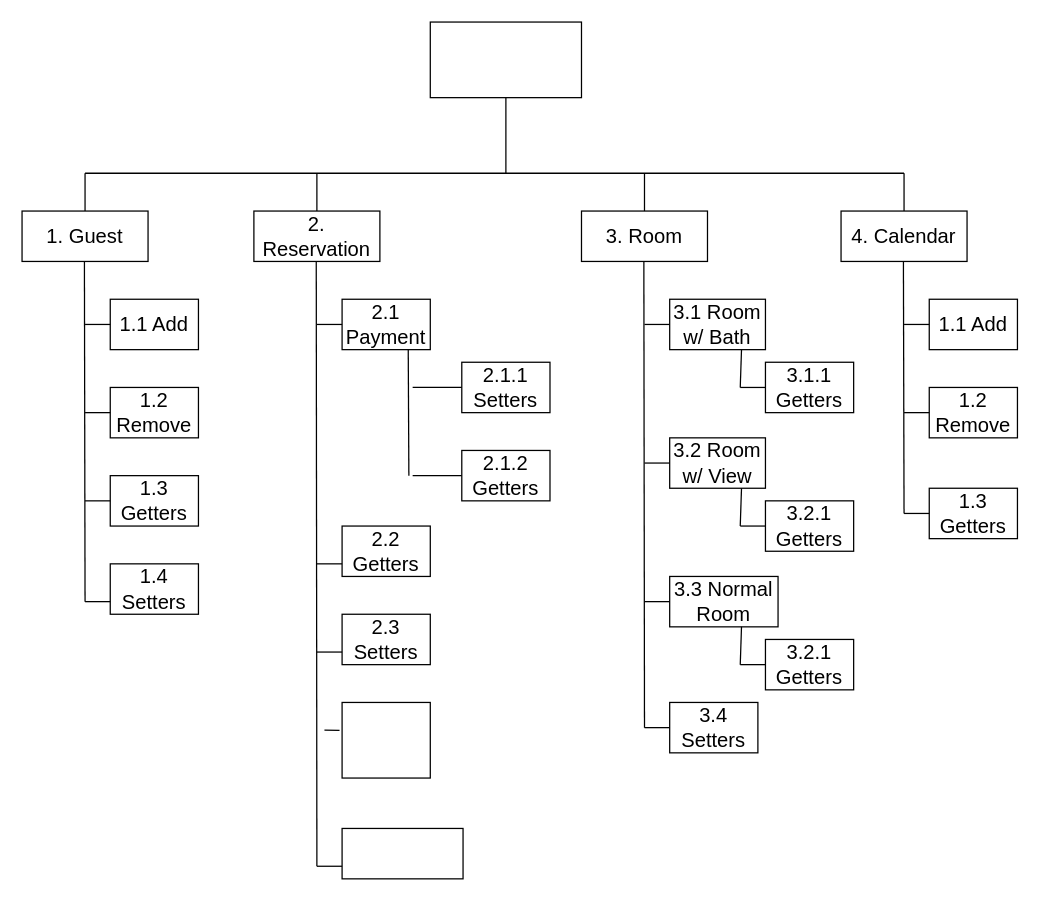
The diagram is 1040 pixels wide and 901 high, and some of its shapes have lost their labels. The shapes that lost their labels are listed below. From the top down, each one's centre as x and y in pixels, then its label:
At [505,59]: "0. Main".
At [385,739]: "2.4 Charge Payment".
At [402,853]: "2.5 Check Availability".
